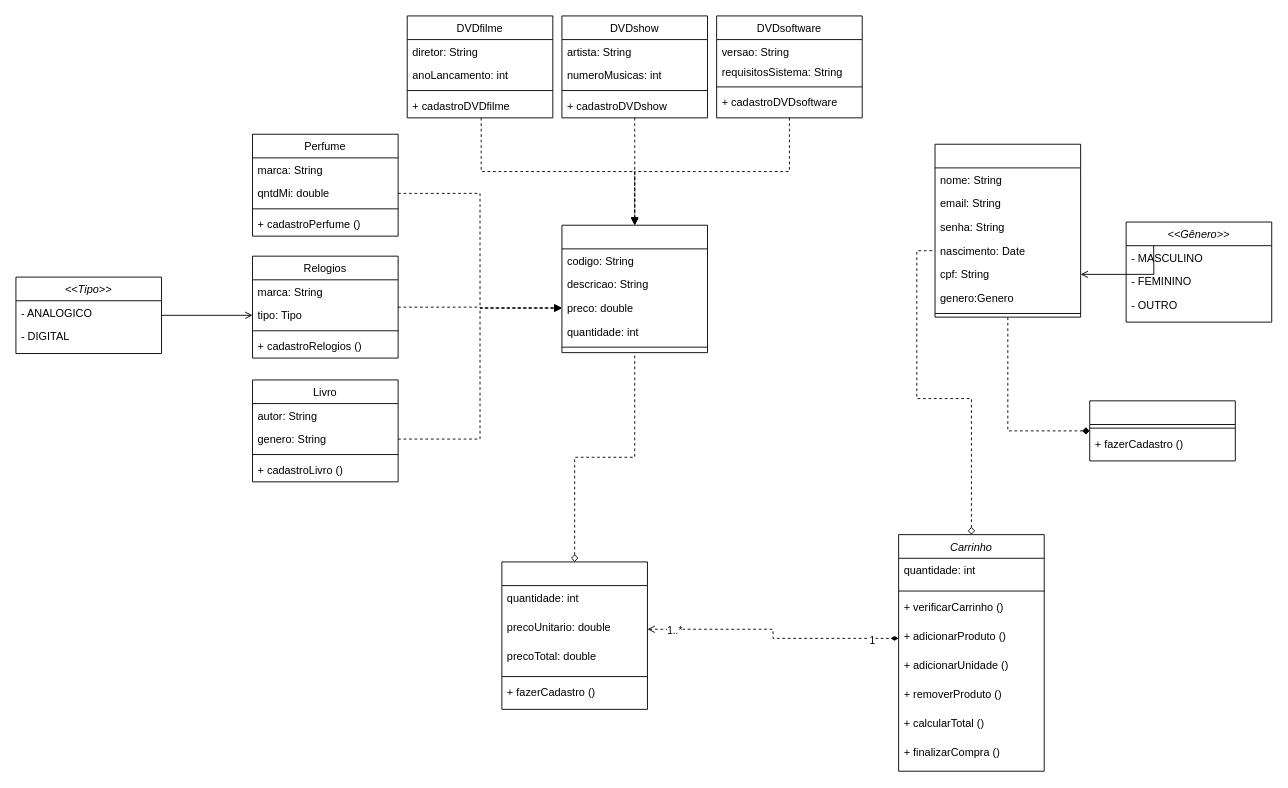
Some shapes in this 1288 by 788 pixel diagram are drawn without their labels. Each missing label, with the box of its shape:
Produto: (561, 224, 708, 353)
ProdutoPedido: (501, 561, 647, 709)
UsuarioActions: (1089, 400, 1235, 461)
Usuário: (934, 143, 1081, 317)
